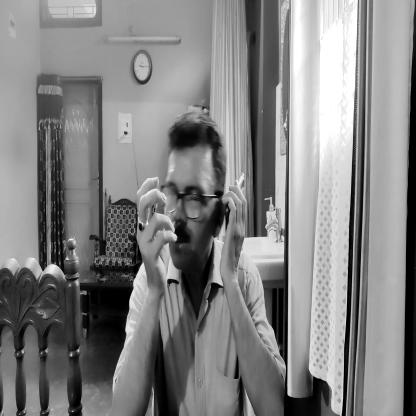Distracted: (154, 109, 227, 286)
